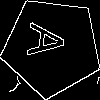A: (27, 22, 75, 62)
